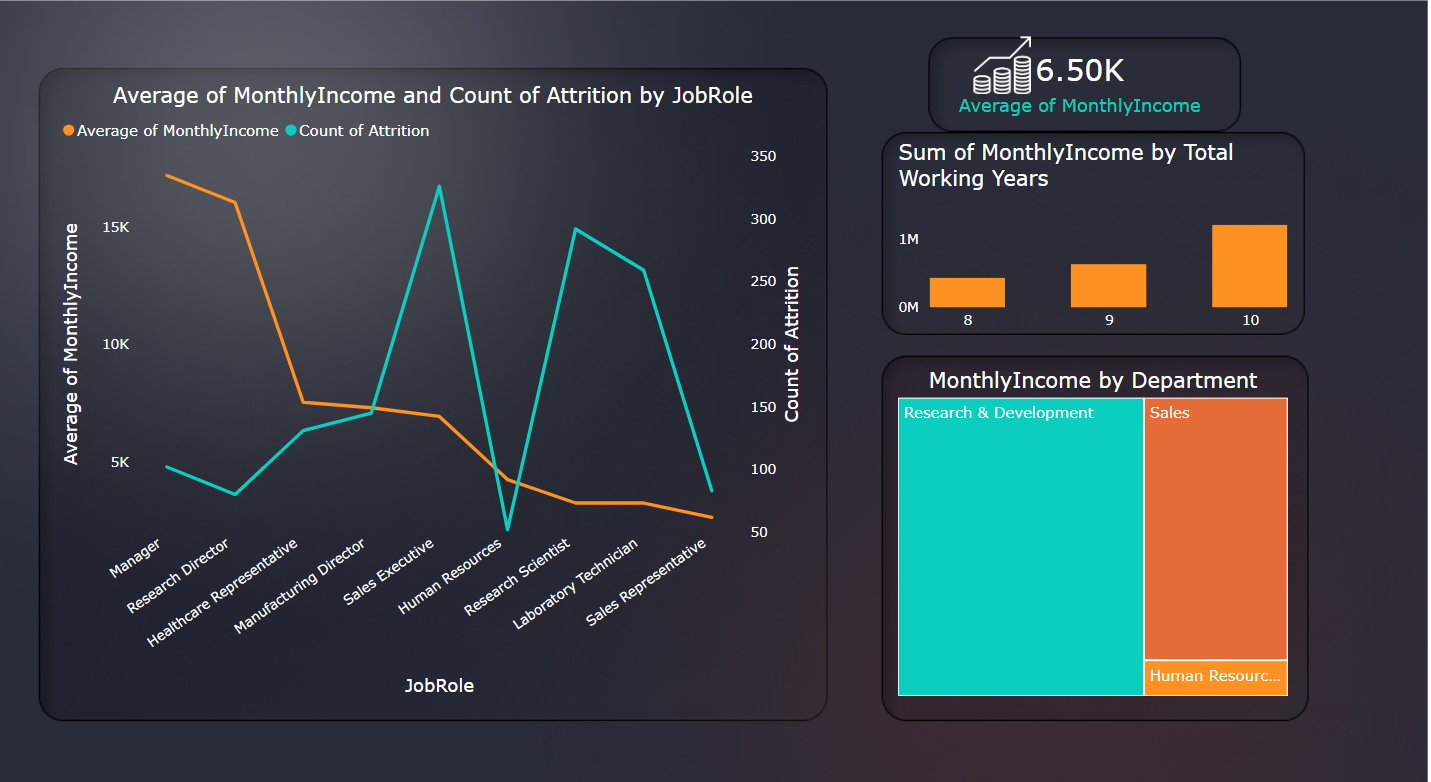

Layout of this report page (visuals, bound fields, positions):
{"tool":"powerbi","page":{"name":"MonthlyIncome","canvas":[1280,720],"ordinal":2},"visuals":[{"type":"image","box":[0,0,1279.4,720.6],"z":0},{"type":"lineChart","fields":{"Category":["HR-Employee-Attrition.JobRole"],"Y2":["CountNonNull(HR-Employee-Attrition.Attrition)"],"Y":["Avg(HR-Employee-Attrition.MonthlyIncome)"]},"box":[55.9,85.3,669.1,550],"z":1000},{"type":"treemap","title":"MonthlyIncome by Department","fields":{"Group":["HR-Employee-Attrition.Department"],"Values":["Sum(HR-Employee-Attrition.MonthlyIncome)"]},"box":[798.5,338.5,356,296.7],"z":2000},{"type":"card","fields":{"Values":["Avg(HR-Employee-Attrition.MonthlyIncome)"]},"box":[832.6,27.2,255.8,128.4],"z":3000},{"type":"columnChart","title":"Sum of MonthlyIncome by Total Working Years","fields":{"Category":["HR-Employee-Attrition.TotalWorkingYears"],"Y":["Sum(HR-Employee-Attrition.MonthlyIncome)"]},"box":[798.5,137.1,356,172.2],"z":4000},{"type":"image","box":[857.9,45.7,70,55.4],"z":5000}]}

Visuals, with their boxes in screenshot pixels (x1, y1, x2, y2), scaled from the page's 1280x720 canvas onto the 1431x782 screenshot:
image: BBox(0, 0, 1430, 781)
lineChart - HR-Employee-Attrition.JobRole x CountNonNull(HR-Employee-Attrition.Attrition): BBox(62, 93, 811, 690)
"MonthlyIncome by Department" treemap: BBox(893, 368, 1291, 690)
card - Avg(HR-Employee-Attrition.MonthlyIncome): BBox(931, 30, 1217, 169)
"Sum of MonthlyIncome by Total Working Years" columnChart: BBox(893, 149, 1291, 336)
image: BBox(959, 50, 1037, 110)
